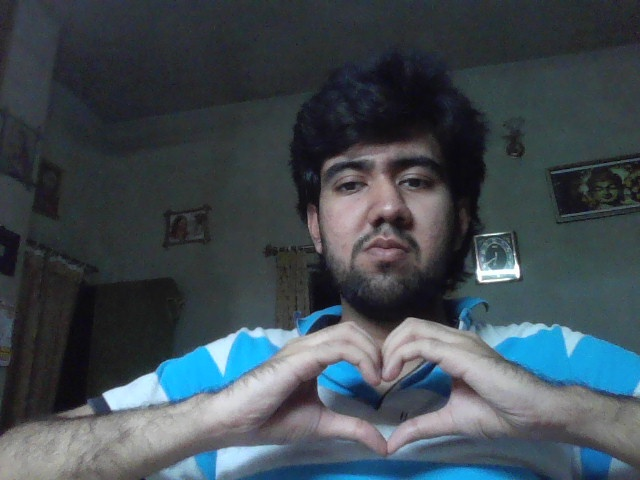Love: (237, 316, 535, 457)
